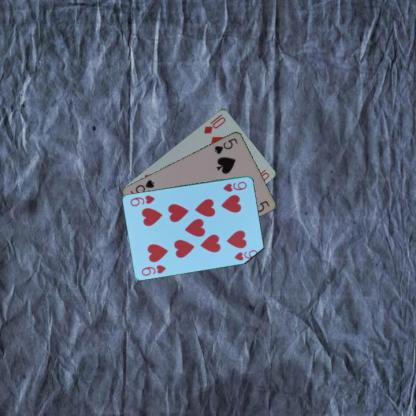10d: (201, 112, 227, 134)
5s: (212, 135, 239, 155)
9h: (139, 262, 168, 276), (221, 179, 248, 193)
